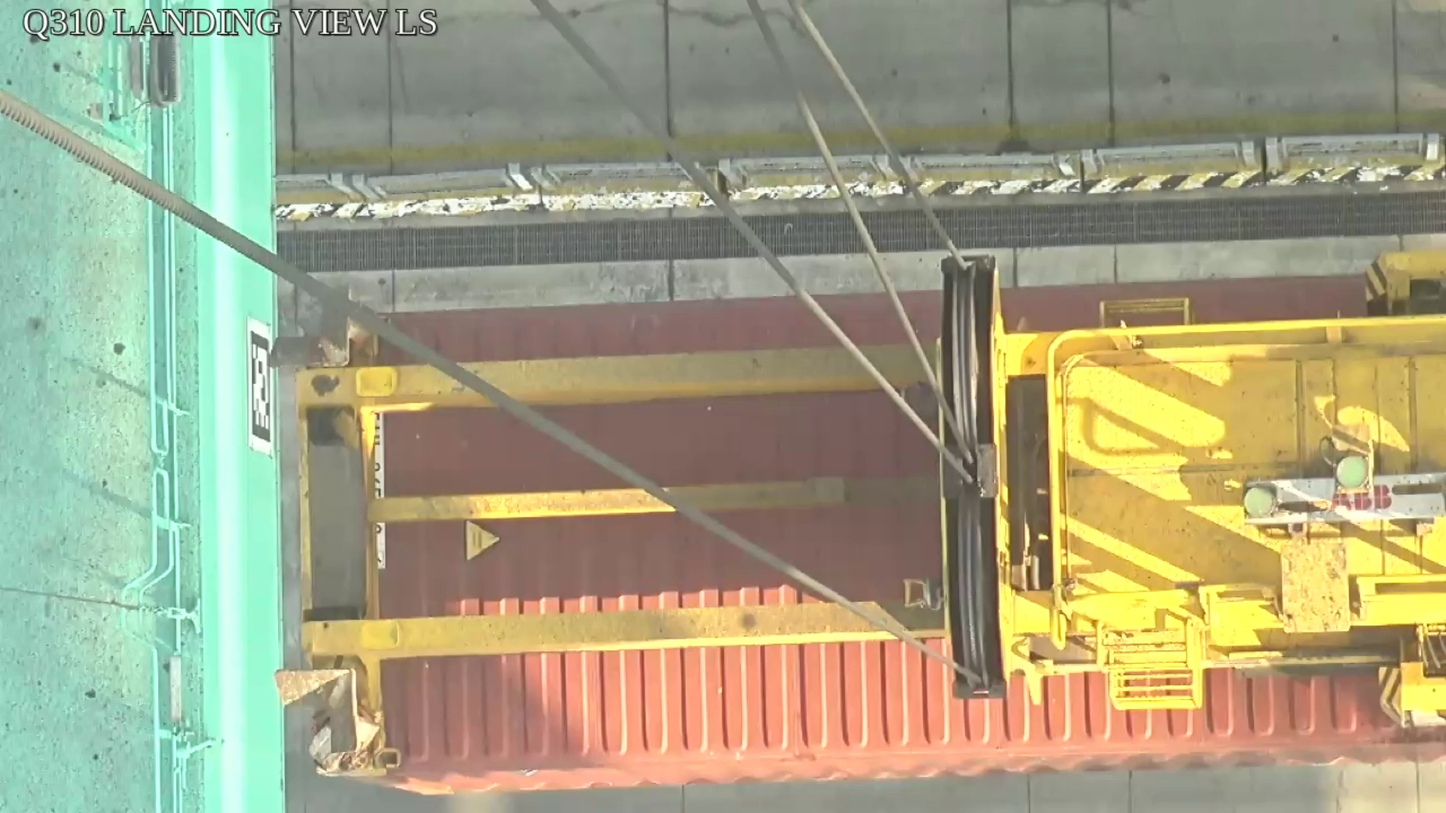aa: (938, 257, 1013, 700)
